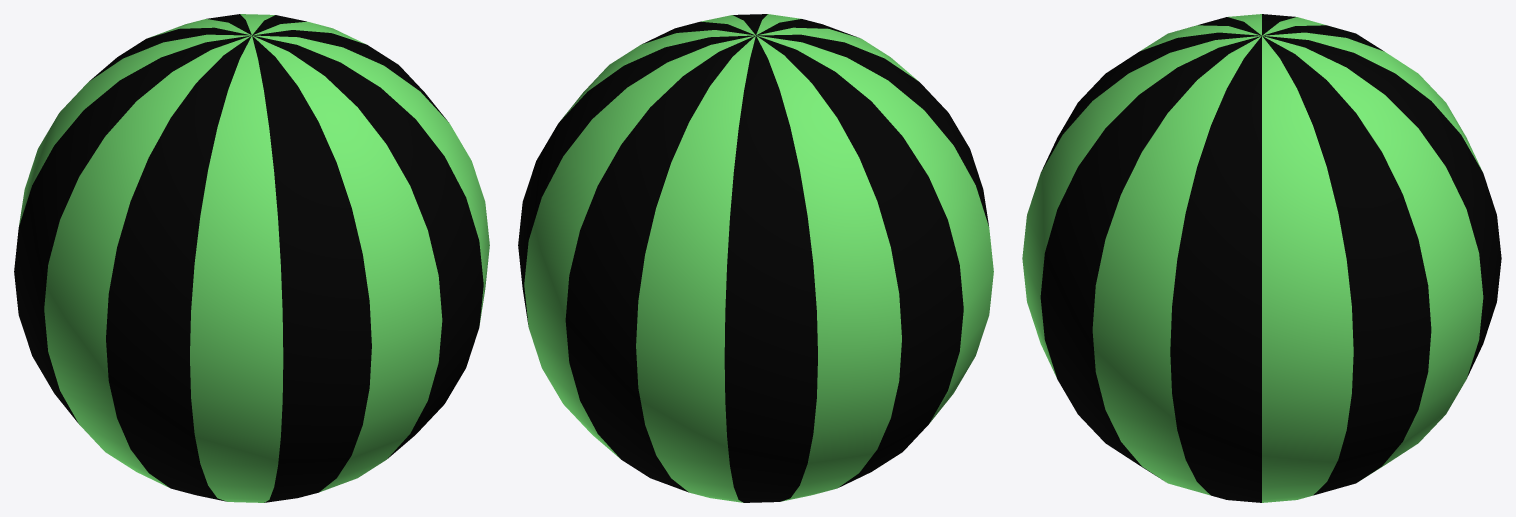
File: APlayer.fbx
3 views of the same model, side by side, from view 1: azimuth 30°, elevation 25°; view 2: azimuth 150°, elevation 25°; view 3: azimuth 270°, elevation 25° (orthographic).
Visible parts, largest first — view 1: Сфера; view 2: Сфера; view 3: Сфера.
Boxes of the visible parts, bbox=[...] form: Сфера: bbox=[14, 14, 489, 502]; Сфера: bbox=[518, 14, 993, 502]; Сфера: bbox=[1022, 14, 1501, 502].
Size of the model in its own units: 200 by 205 by 200.
